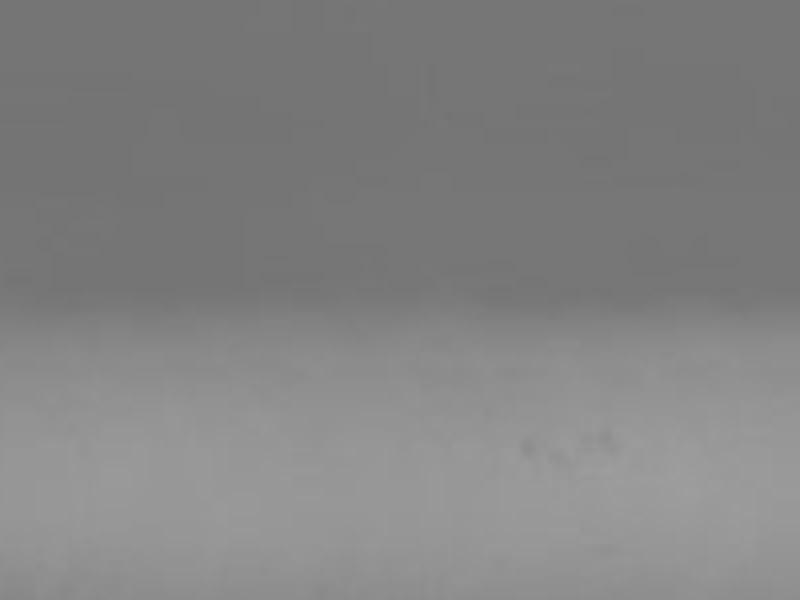defect: (545, 446, 570, 474), (592, 430, 618, 454), (518, 435, 534, 458)
